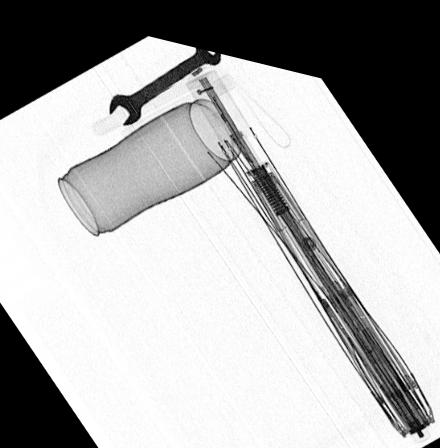Wrench: (109, 38, 218, 120)
